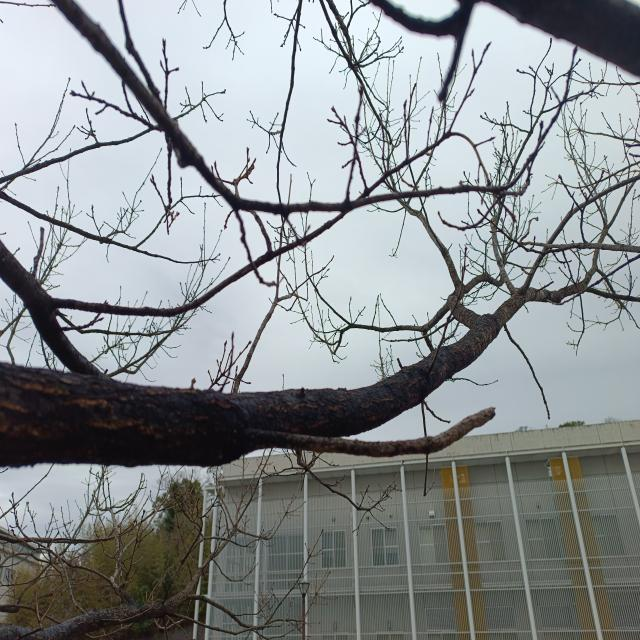Branch: (0, 224, 608, 466), (0, 240, 102, 377), (404, 204, 507, 332), (486, 0, 640, 77)
Twig: (52, 0, 500, 218), (51, 213, 341, 317), (0, 96, 204, 184), (249, 408, 496, 459), (0, 592, 191, 640), (0, 190, 135, 251), (190, 594, 304, 630), (374, 140, 442, 187), (445, 130, 490, 185)
